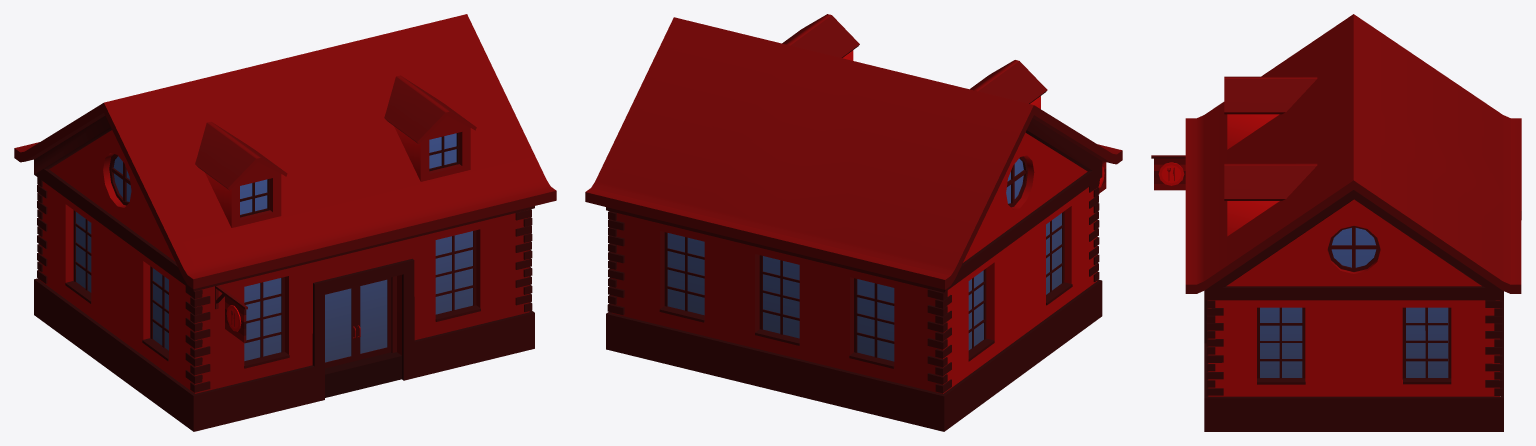
File: buildings-business-restaurant_v1.fbx
3 views of the same model, side by side, from view 1: azimuth 30°, elevation 25°; view 2: azimuth 150°, elevation 25°; view 3: azimuth 270°, elevation 25° (orthographic). The views are drawn at different scales.
Visible parts, largest first — view 1: Restaurant_base, Restaurant_windowRefl; view 2: Restaurant_base, Restaurant_windowRefl; view 3: Restaurant_base, Restaurant_windowRefl.
Part boxes in pixels (<box>): Restaurant_base: <box>14,14,556,431</box>; Restaurant_windowRefl: <box>76,133,472,362</box>; Restaurant_base: <box>585,14,1122,431</box>; Restaurant_windowRefl: <box>667,158,1061,361</box>; Restaurant_base: <box>1151,14,1521,431</box>; Restaurant_windowRefl: <box>1260,228,1448,377</box>.
Bounding box in the file's own units: 17.03 × 12.26 × 16.03.
